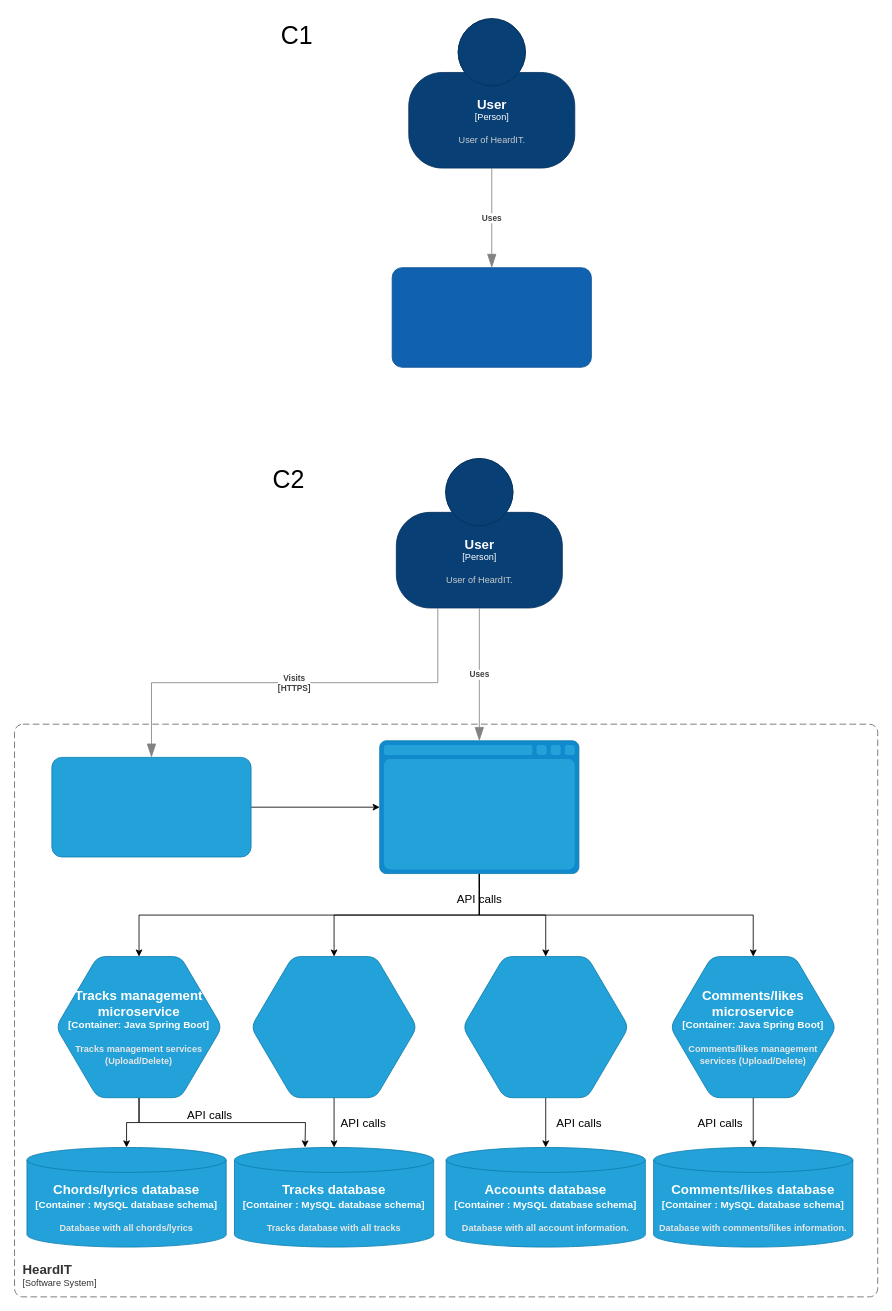
Image size: 892x1311. Some labels were removed from this diagram. The shapes that lost their labels are listed below. From the top down, each one's centre as x and y in pixels, then its label:
At (491,317): "HeardIT [Software System] HeardIT web-application.".
At (151,807): "HeardIT-Front-end [Container: ReactJs] Front-end of HeardIT application.".
At (479,807): "Container name [Container : ReactJS] HeardIT page application".
At (333,1027): "Tracks microservice [Container: Java Spring Boot] Tracks playing services".
At (545,1027): "Account microservice [Container : Java Spring Boot] Account management services".
